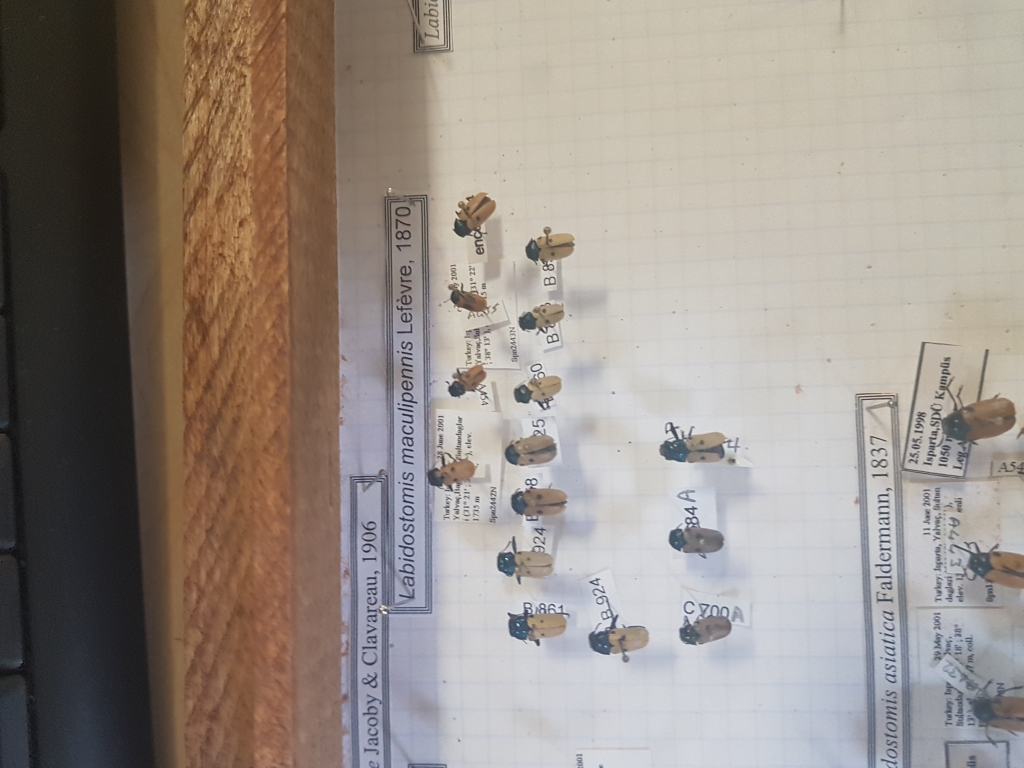Labidostomis_maculipennis: (495, 531, 561, 580), (662, 426, 729, 471), (422, 449, 482, 497), (509, 482, 570, 524), (450, 192, 500, 242), (668, 518, 730, 556), (522, 229, 579, 270), (504, 432, 560, 470), (516, 298, 568, 337), (515, 370, 565, 405)
